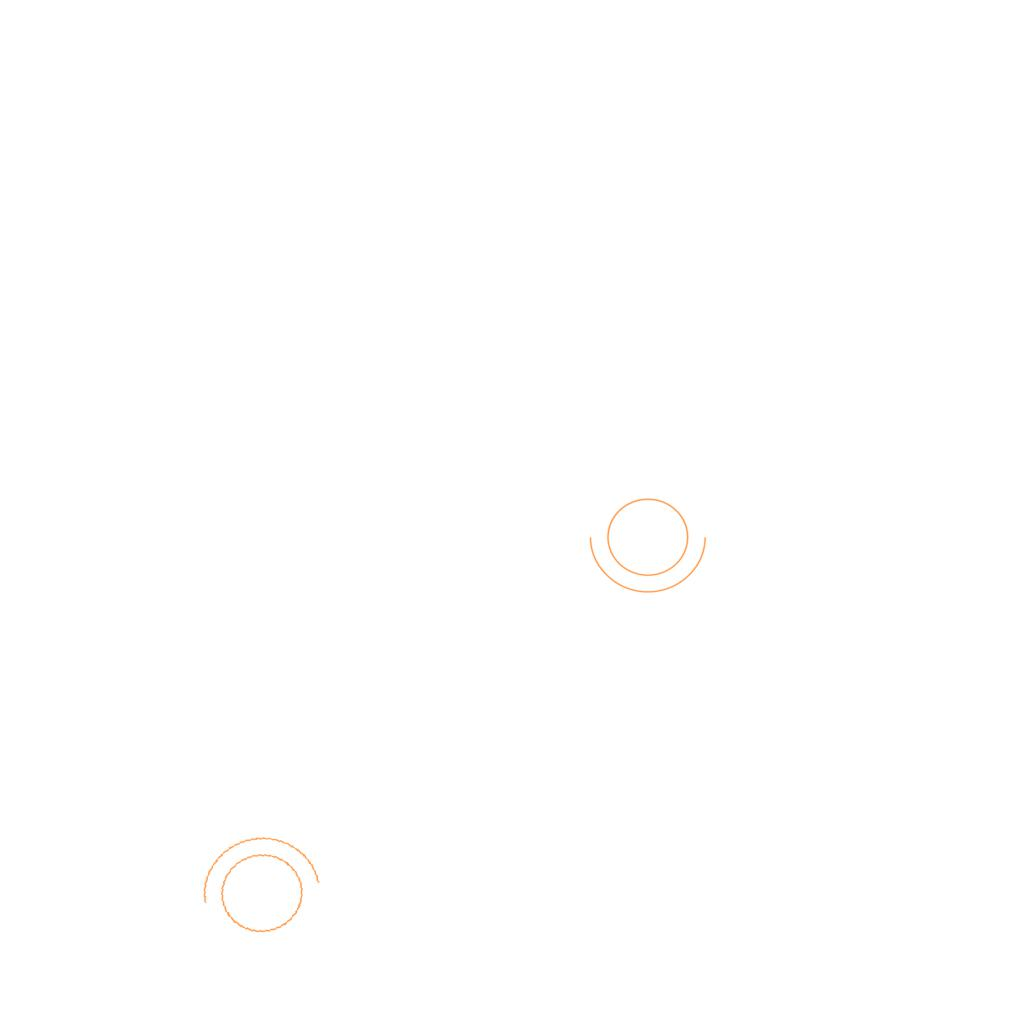Scheinwerfer_fuer_Alarmbeleuchtung: (183, 822, 333, 956), (585, 486, 717, 598)
